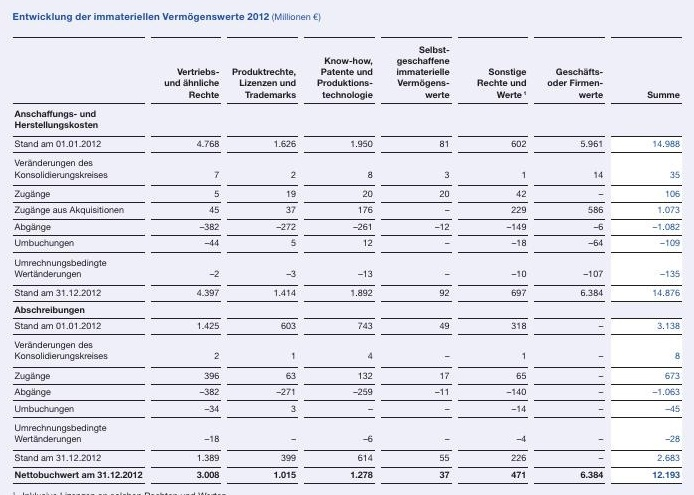table: (0, 0, 694, 495)
